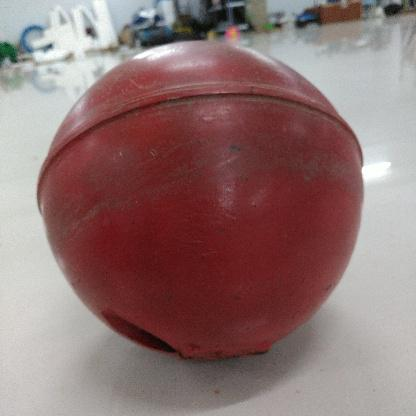red_buoy: (37, 40, 366, 364)
